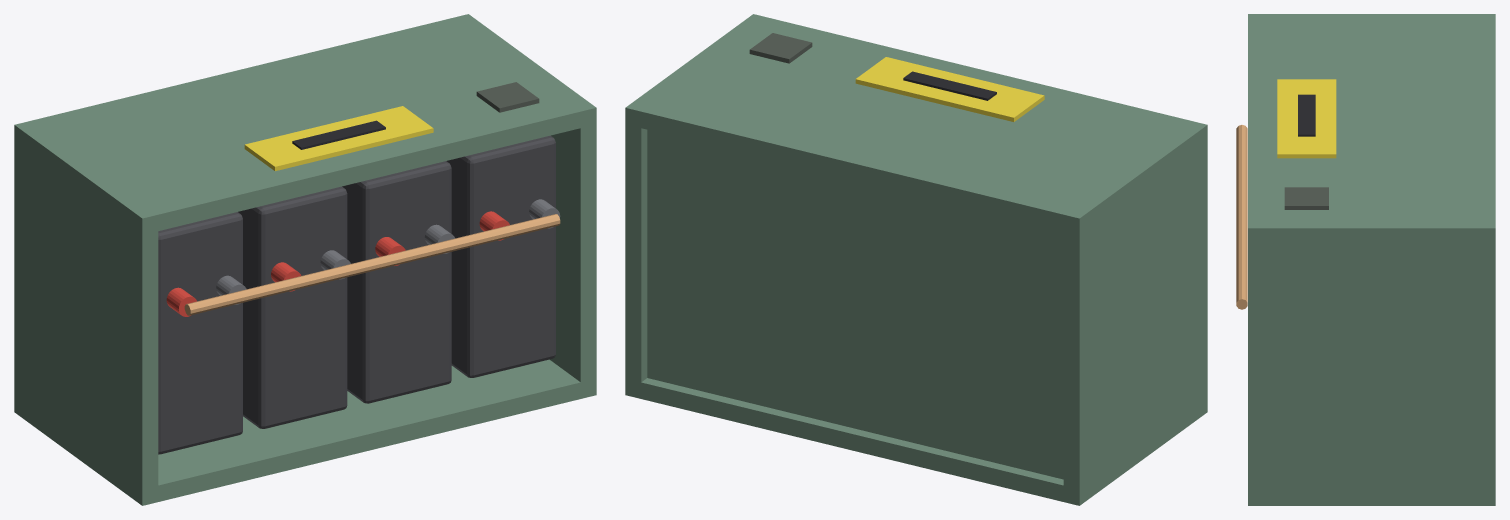
File: powerbank.obj
3 views of the same model, side by side, from view 1: azimuth 30°, elevation 25°; view 2: azimuth 150°, elevation 25°; view 3: azimuth 270°, elevation 25° (orthographic). The views are drawn at different scales.
Size of the model in its own units: 0.86 by 0.532 by 0.4395.
